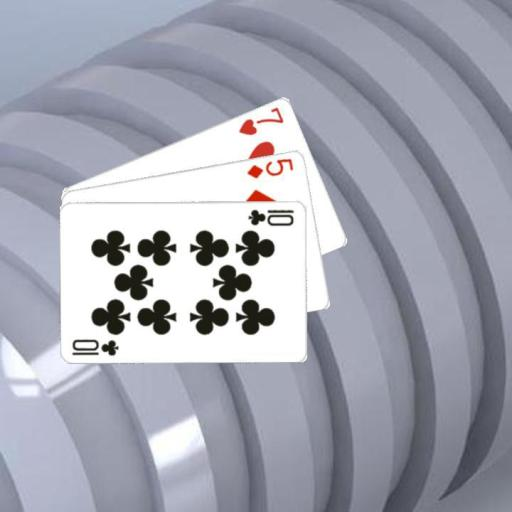10C: (245, 205, 296, 227), (69, 335, 120, 357)
5D: (244, 154, 295, 180)
7H: (235, 103, 286, 137)
